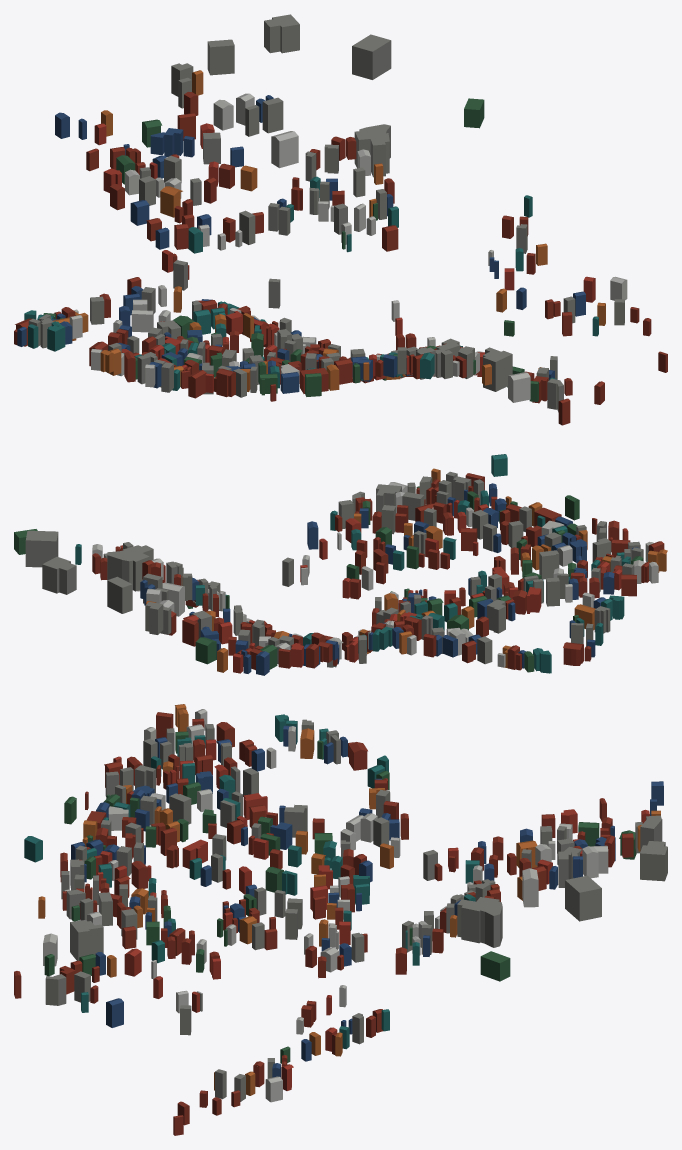
File: near-16-54726-29739.a12b1e98.glb
3 renders of one model, top to bottom at view 1: azimuth 30°, elevation 25°; view 2: azimuth 150°, elevation 25°; view 3: azimuth 270°, elevation 25°, orthographic. The views are drawn at different scales.
Bounding box in the file's own units: 597 × 229 × 584.
